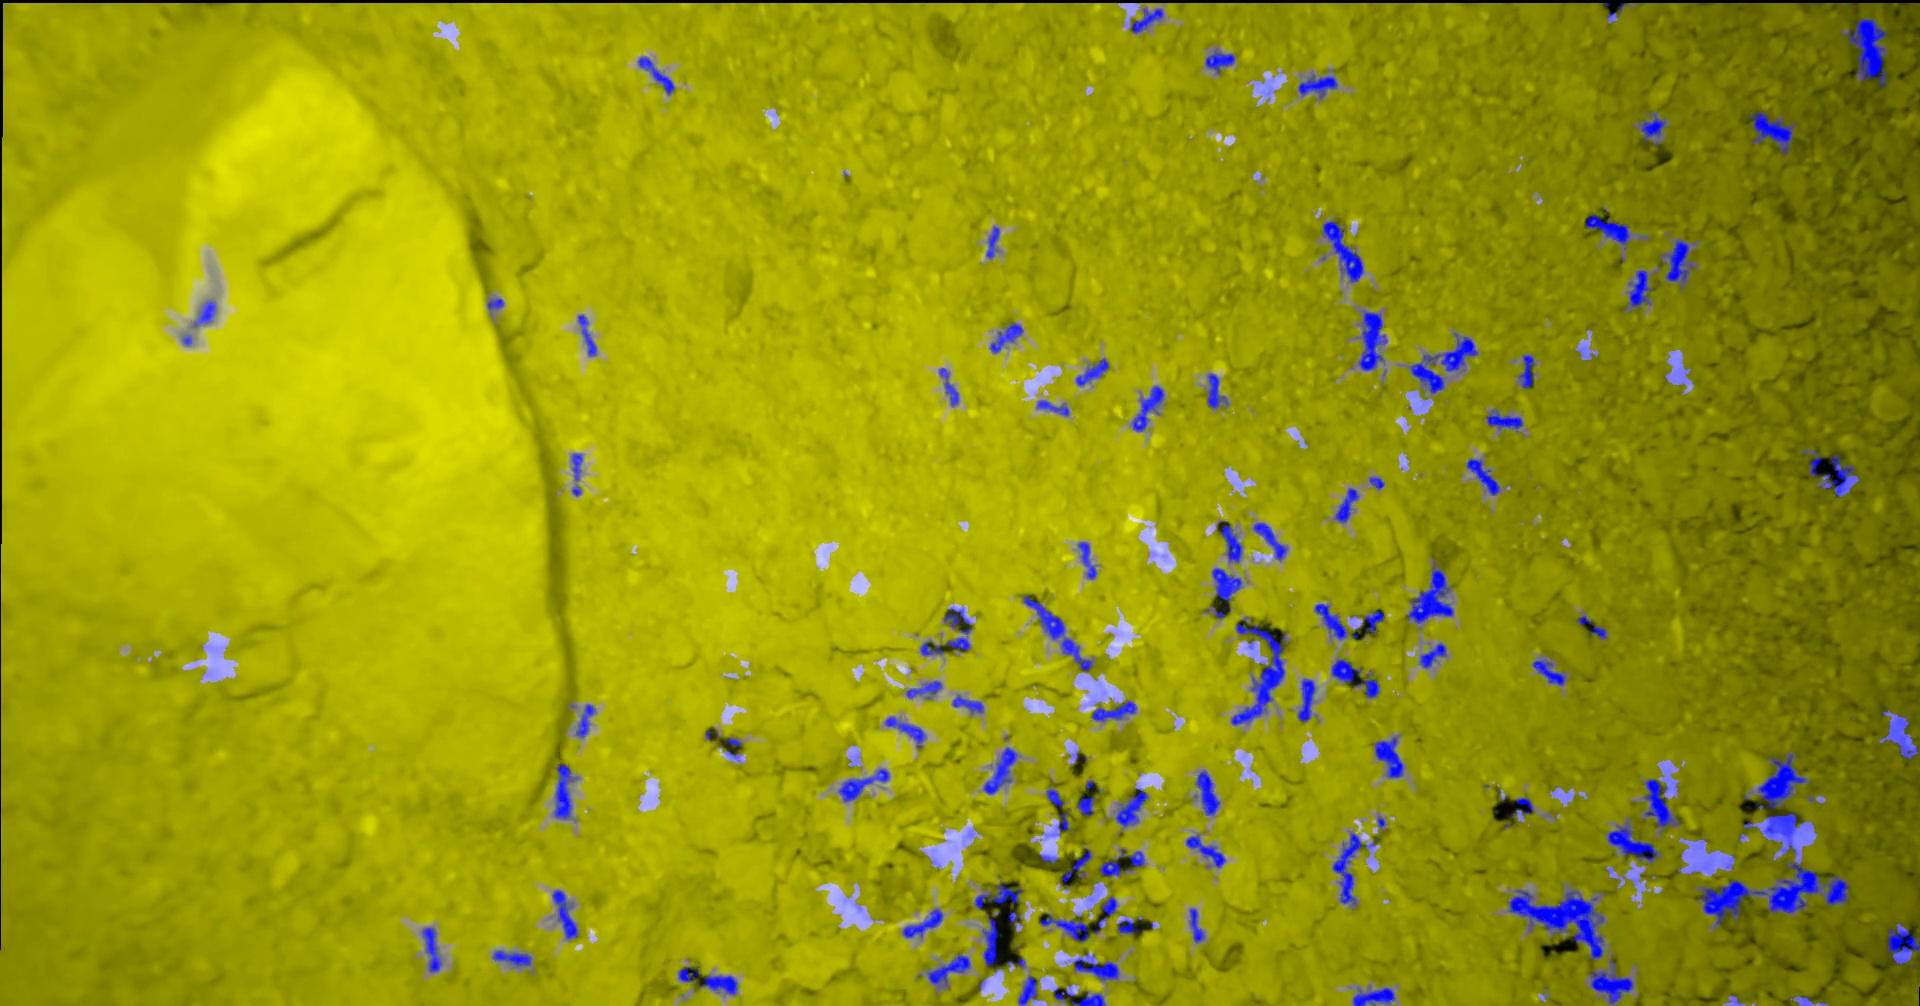ant: (1023, 594, 1092, 671), (1331, 832, 1374, 904), (1801, 448, 1858, 497), (1322, 220, 1363, 282), (1606, 818, 1658, 862), (1589, 959, 1633, 1005), (1749, 111, 1796, 154), (1878, 709, 1919, 758), (1642, 779, 1679, 829), (1763, 812, 1803, 854), (1658, 239, 1693, 288), (838, 768, 888, 801), (1357, 311, 1385, 370), (983, 747, 1017, 794), (1583, 213, 1629, 248), (1211, 567, 1241, 619), (1131, 385, 1163, 431), (926, 954, 970, 986), (637, 56, 674, 94), (1039, 913, 1088, 941), (1185, 835, 1225, 868), (1887, 922, 1919, 964), (1252, 522, 1286, 560), (884, 716, 924, 748), (1098, 848, 1144, 876), (1073, 953, 1117, 981), (1060, 847, 1091, 888), (551, 890, 577, 939), (1374, 735, 1403, 777), (1194, 770, 1220, 815), (1465, 459, 1498, 495), (1115, 788, 1147, 826), (974, 883, 1021, 908), (902, 908, 942, 937), (552, 763, 574, 818), (1623, 269, 1651, 310), (1314, 603, 1346, 639), (1217, 520, 1242, 561), (989, 323, 1023, 352), (1297, 74, 1337, 98), (919, 636, 969, 655), (1091, 701, 1137, 721), (1053, 987, 1105, 1005), (1093, 895, 1117, 934), (1639, 112, 1666, 145), (1076, 358, 1109, 385), (982, 917, 999, 967), (1531, 659, 1564, 685), (1297, 678, 1316, 721), (422, 927, 441, 970), (1335, 486, 1357, 522), (1130, 8, 1162, 33), (1486, 408, 1523, 429), (577, 314, 596, 354), (1352, 987, 1394, 1005), (1331, 658, 1361, 682), (938, 367, 957, 405), (698, 976, 737, 995), (943, 607, 971, 633), (1418, 641, 1446, 667), (1077, 542, 1096, 579), (1204, 50, 1234, 72), (1206, 373, 1227, 408), (905, 680, 941, 699), (575, 704, 596, 737), (491, 950, 530, 967), (1017, 976, 1037, 1005), (1352, 674, 1378, 697), (1363, 610, 1384, 635), (1517, 354, 1534, 387), (952, 695, 983, 713), (1189, 908, 1204, 942), (194, 301, 215, 325), (1036, 400, 1068, 415), (1510, 796, 1533, 817), (985, 226, 999, 258), (1076, 796, 1095, 815), (1117, 920, 1142, 934), (678, 967, 698, 983), (1046, 789, 1063, 807), (1057, 810, 1068, 835), (571, 453, 582, 480), (1589, 625, 1606, 639), (1007, 911, 1020, 930), (1368, 476, 1384, 489), (1577, 614, 1592, 625), (488, 298, 503, 309)
